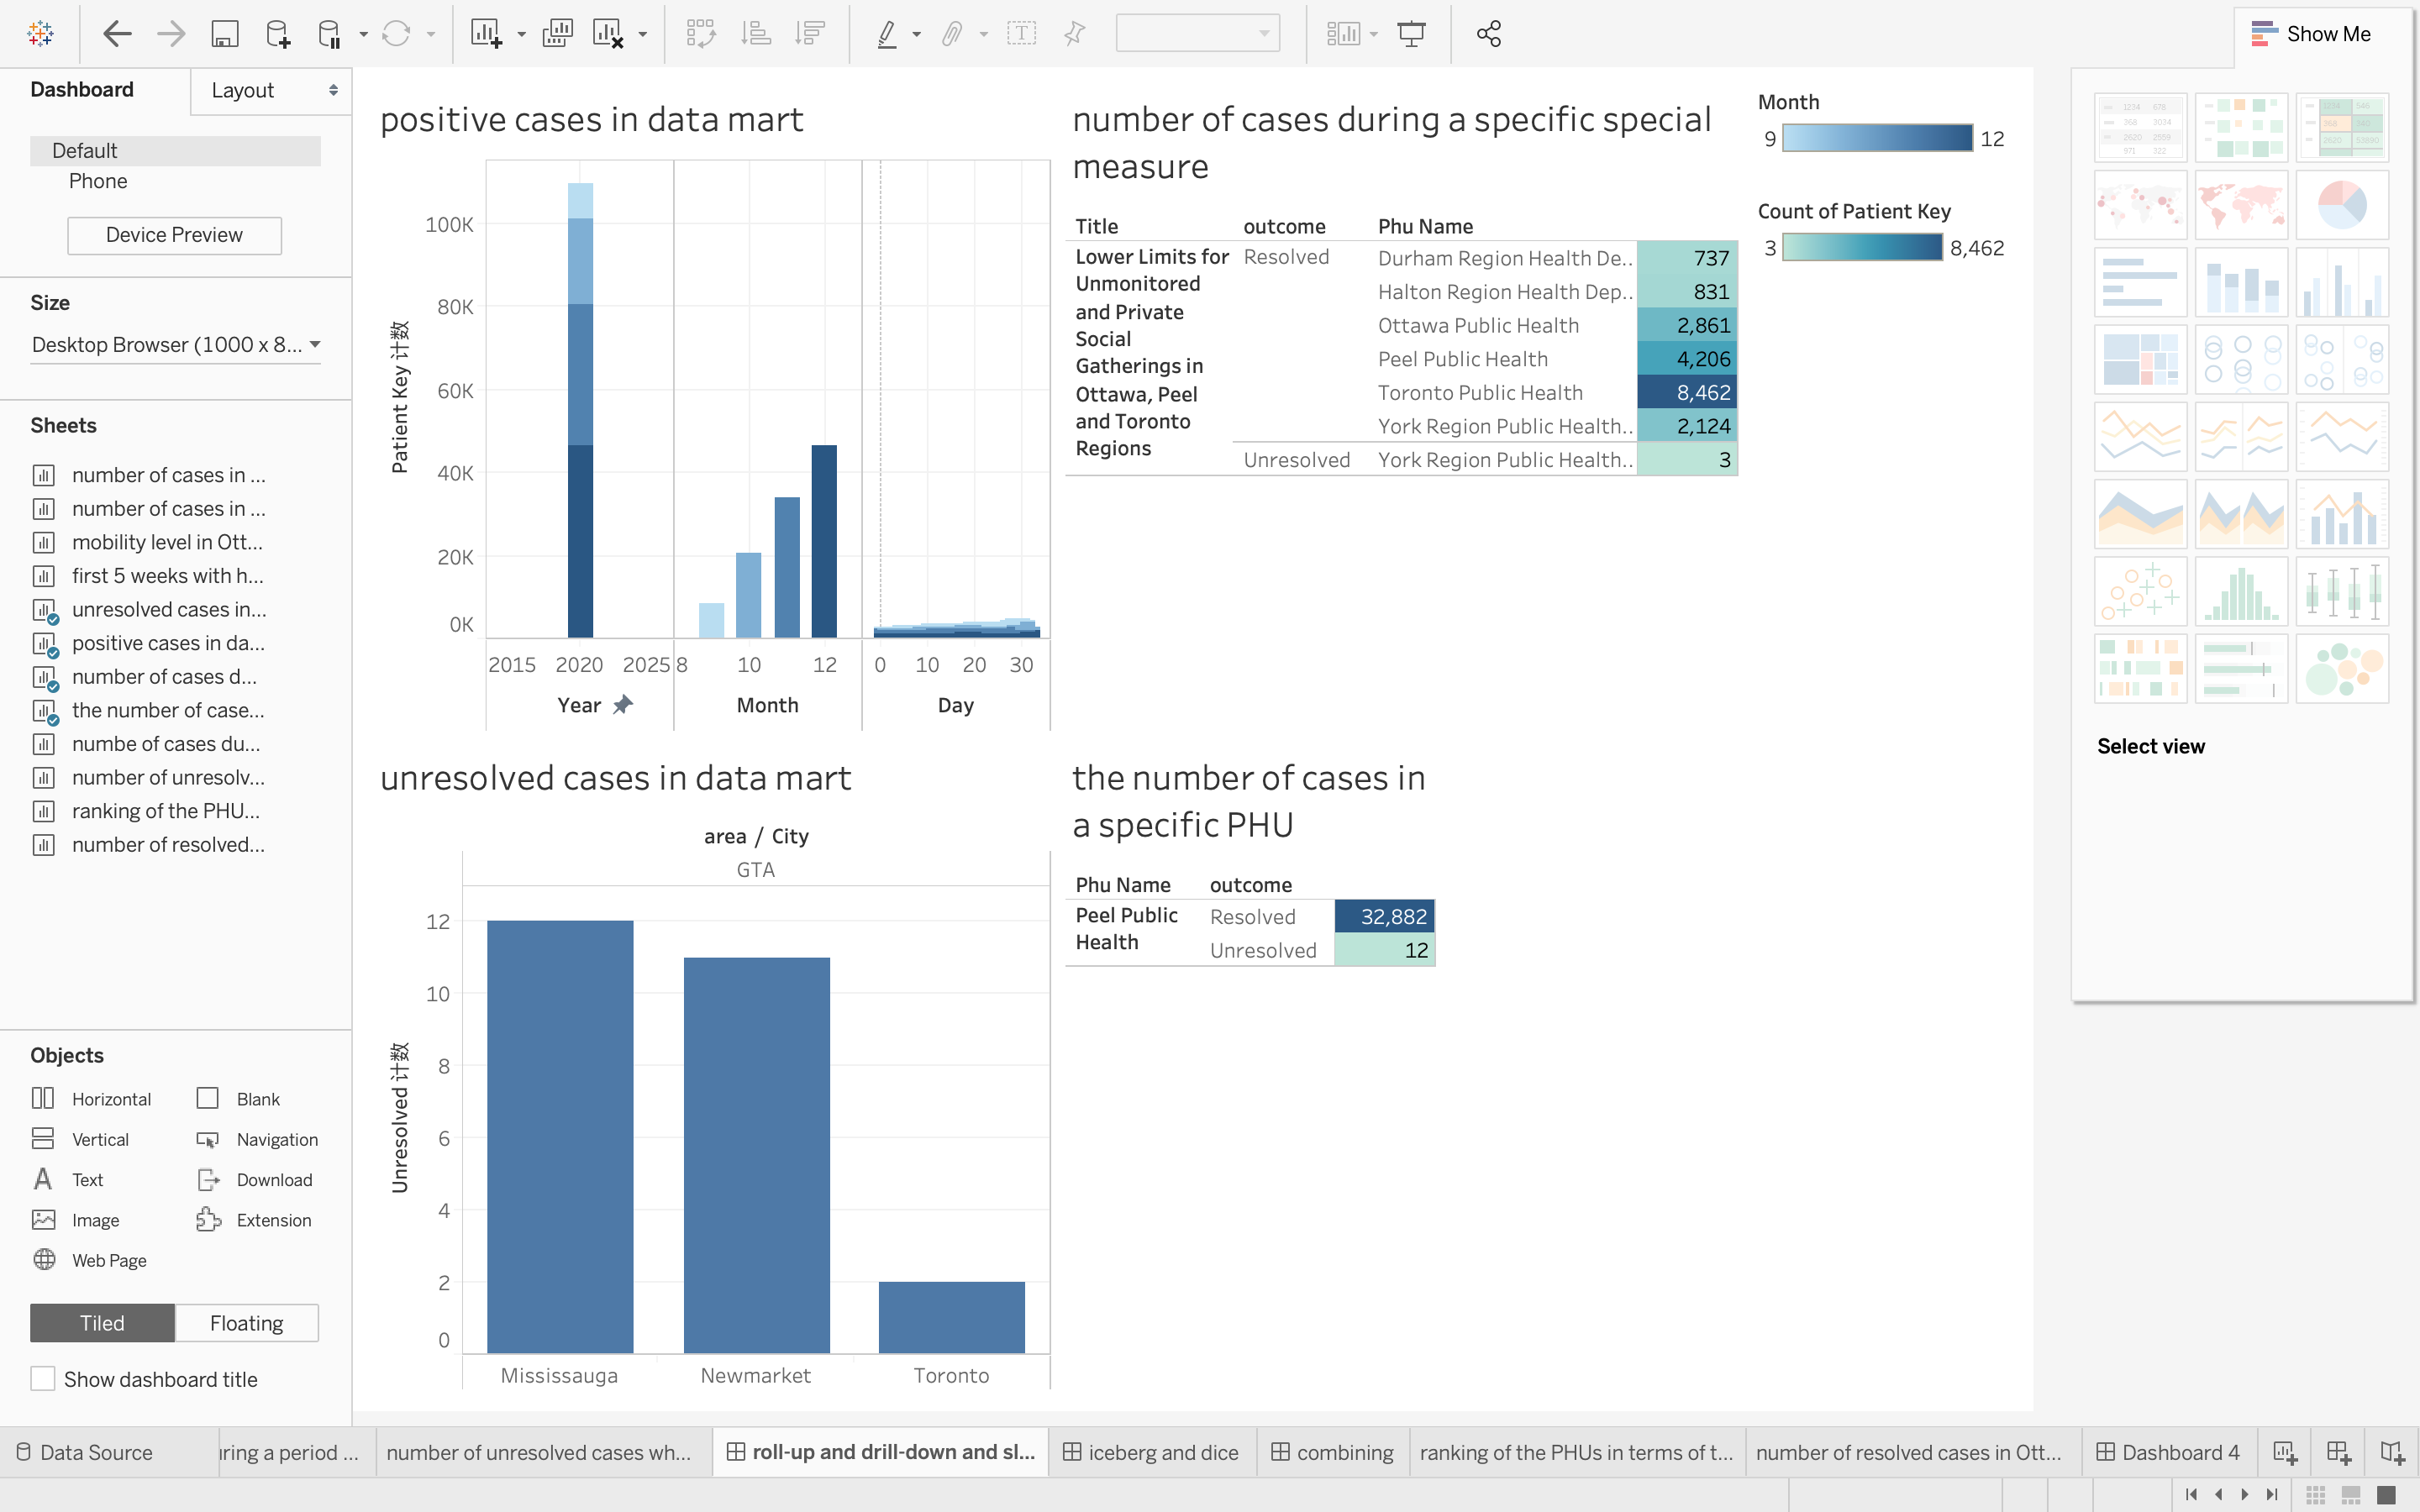

This screenshot's page, from the dashboard's own definition file:
{"tool":"tableau","page":{"name":"roll-up and drill-down and slice","canvas":[1000,800],"ordinal":3},"visuals":[{"type":"worksheet","box":[0,0,1000,800]},{"type":"worksheet","param":"horz","box":[8,8,984,784]},{"type":"worksheet","box":[8,8,824,784]},{"type":"worksheet","title":"positive cases in data mart","mark":"Bar","rows":["patient_key"],"cols":["year","month","day"],"box":[8,8,412,392]},{"type":"worksheet","title":"number of cases during a specific special measure","mark":"Square","rows":["title","outcome","phu_name"],"box":[420,8,412,392]},{"type":"worksheet","param":"vert","box":[832,8,160,784]},{"type":"worksheet","title":"positive cases in data mart","mark":"Bar","rows":["patient_key"],"cols":["year","month","day"],"param":"[federated.00brt8x1lf8uqt18o7d6713epns0].[none:month:qk]","box":[832,8,160,65]},{"type":"worksheet","title":"number of cases during a specific special measure","mark":"Square","rows":["title","outcome","phu_name"],"param":"[federated.00brt8x1lf8uqt18o7d6713epns0].[cnt:patient_key:qk]","box":[832,73,160,65]},{"type":"worksheet","title":"unresolved cases in data mart","mark":"Automatic","rows":["unresolved"],"cols":["area","city"],"box":[8,400,412,392]},{"type":"worksheet","title":"the number of cases in a specific PHU","mark":"Square","rows":["phu_name","outcome"],"box":[420,400,412,392]}]}

Visuals, with their boxes on the page's 1000x800 design canvas (x1, y1, x2, y2). These are canvas units, not pixel positions in the 2420x1512 screenshot, which may show the page scaled, cropped or inside an application window:
worksheet: (0, 0, 1000, 800)
worksheet: (8, 8, 992, 792)
worksheet: (8, 8, 832, 792)
"positive cases in data mart" worksheet (Bar marks): (8, 8, 420, 400)
"number of cases during a specific special measure" worksheet (Square marks): (420, 8, 832, 400)
worksheet: (832, 8, 992, 792)
"positive cases in data mart" worksheet (Bar marks): (832, 8, 992, 73)
"number of cases during a specific special measure" worksheet (Square marks): (832, 73, 992, 138)
"unresolved cases in data mart" worksheet: (8, 400, 420, 792)
"the number of cases in a specific PHU" worksheet (Square marks): (420, 400, 832, 792)
